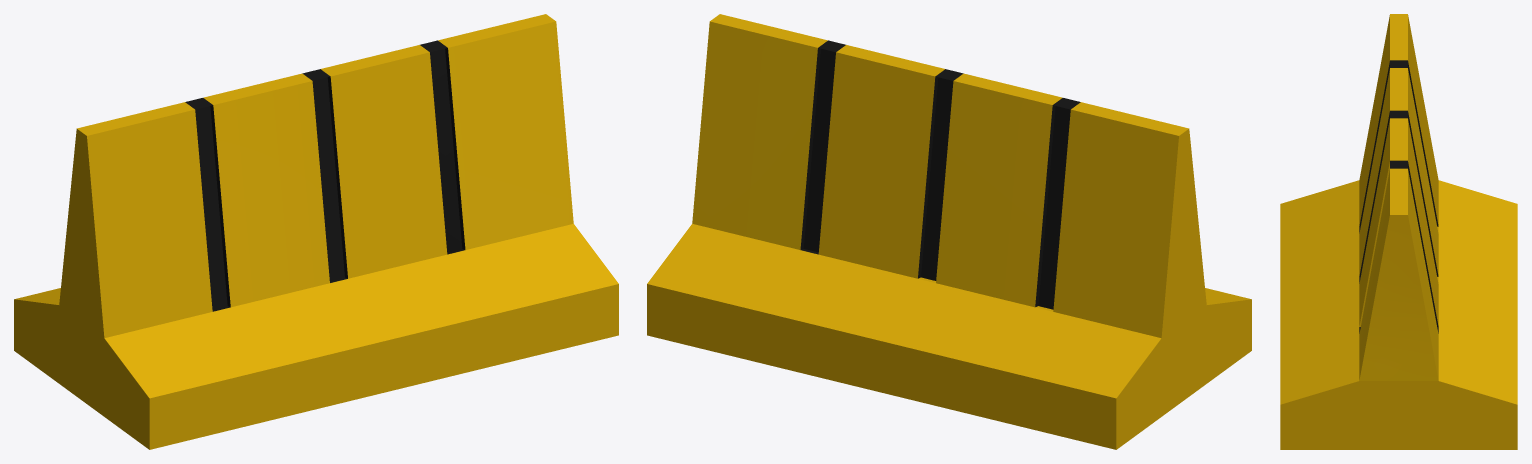
The model's file is road-block-type-A.fbx.
The picture shows the model from 3 angles, left to right: view 1: azimuth 30°, elevation 25°; view 2: azimuth 150°, elevation 25°; view 3: azimuth 270°, elevation 25°; orthographic projection. The views are drawn at different scales.
Visible parts, largest first — view 1: 1.5 road-block-type-A; view 2: 1.5 road-block-type-A; view 3: 1.5 road-block-type-A.
Boxes of the visible parts, left/top/right/bottom form: 1.5 road-block-type-A: left=14, top=14, right=618, bottom=449; 1.5 road-block-type-A: left=647, top=14, right=1251, bottom=449; 1.5 road-block-type-A: left=1280, top=14, right=1517, bottom=449.
Bounding box in the file's own units: 200 × 109 × 100.
Materials: 1 (1 with a texture image).
